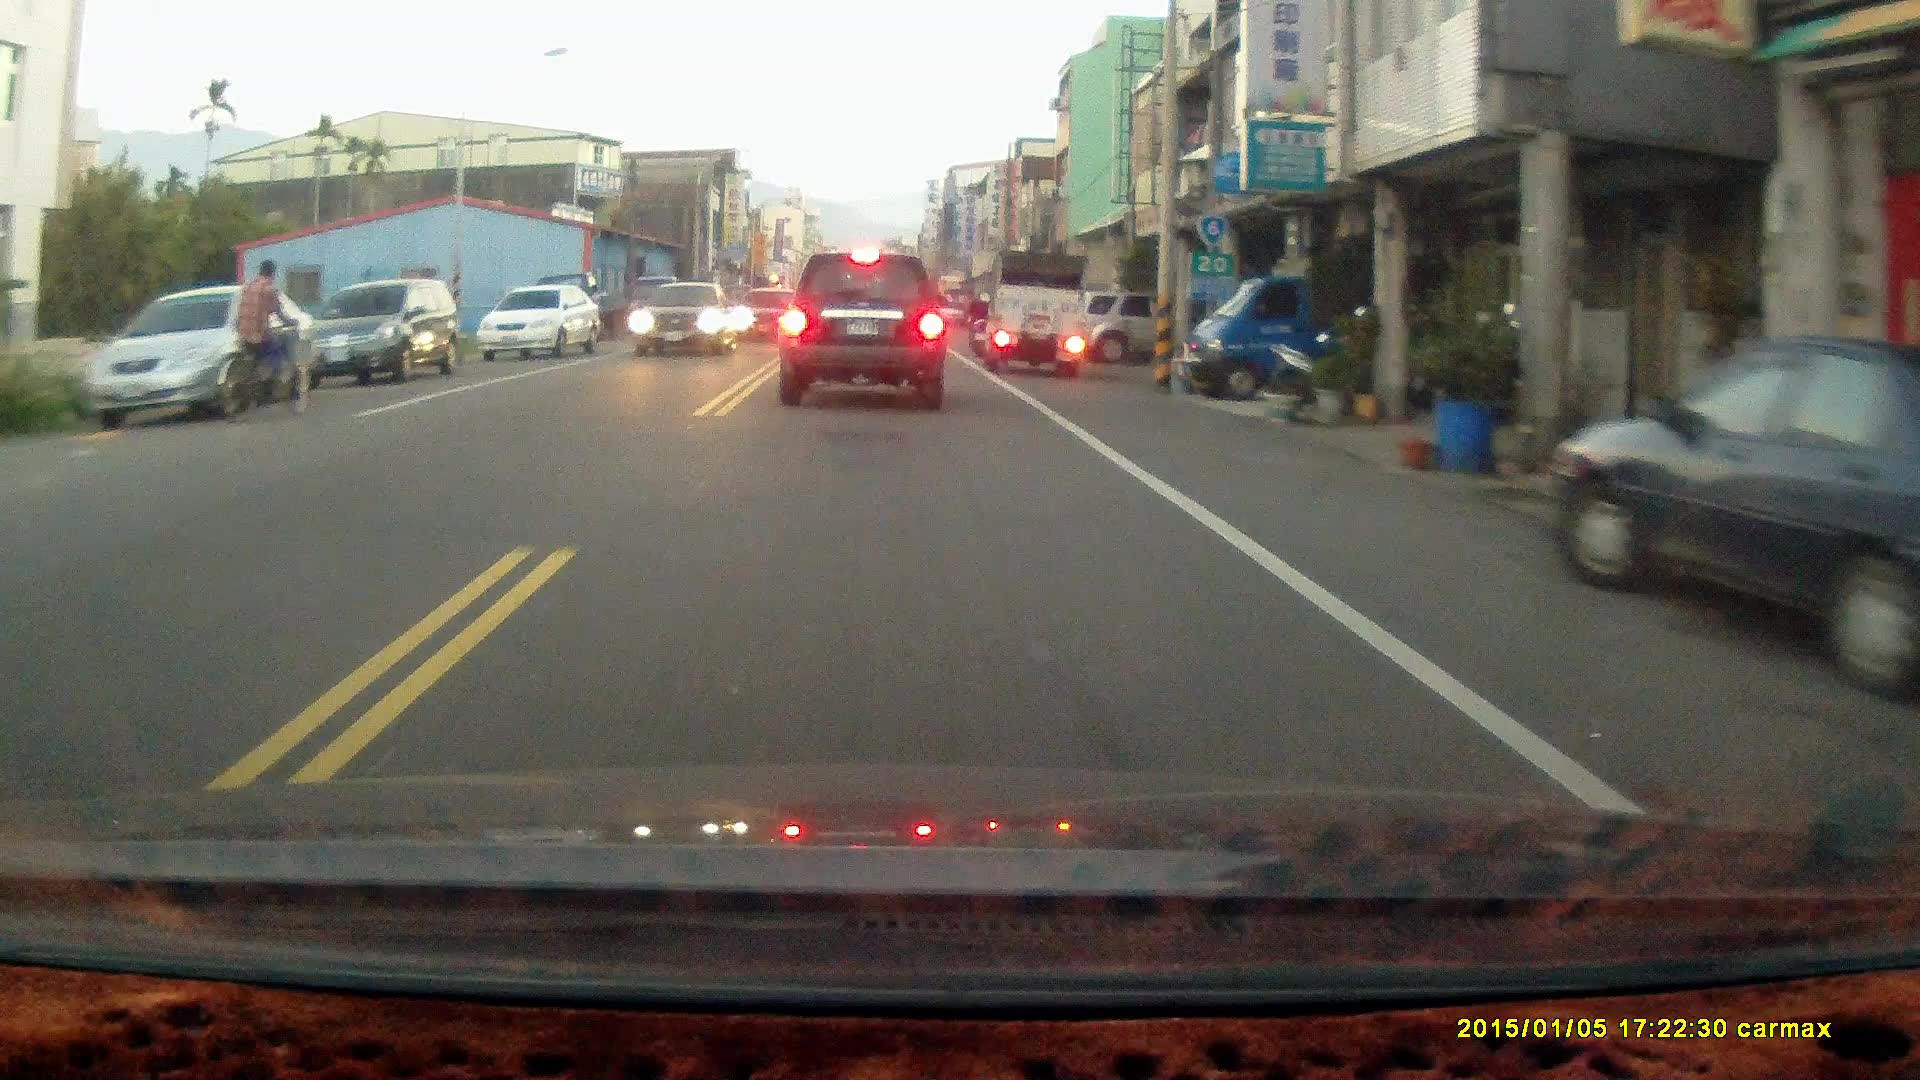rider: (212, 256, 313, 419), (964, 287, 994, 357)
vehicle: (1548, 334, 1920, 694), (75, 291, 306, 435), (1186, 239, 1378, 405), (779, 250, 948, 410), (298, 280, 468, 392), (986, 253, 1089, 379), (480, 287, 607, 366), (638, 283, 737, 359)
